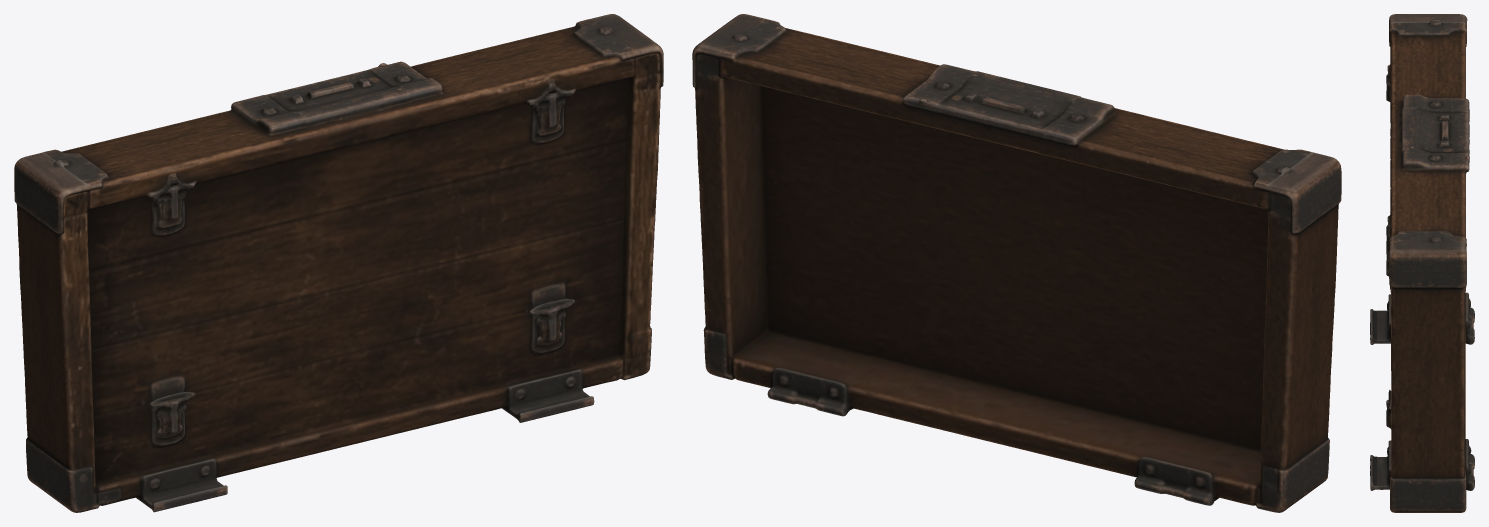
The model's file is Meshy_AI_Weathered_Wooden_Ches_1010104110_texture.fbx.
3 views of the same model, side by side, from view 1: azimuth 30°, elevation 25°; view 2: azimuth 150°, elevation 25°; view 3: azimuth 270°, elevation 25° (orthographic). The views are drawn at different scales.
Parts seen in each view (by area): view 1: Mesh_0; view 2: Mesh_0; view 3: Mesh_0.
Part boxes in pixels (x1,y1,x2,y2): Mesh_0: (14,14,663,512); Mesh_0: (692,14,1341,512); Mesh_0: (1370,14,1474,512).
Bounding box in the file's own units: 190 × 101 × 34.77.
1 material, 1 textured.
